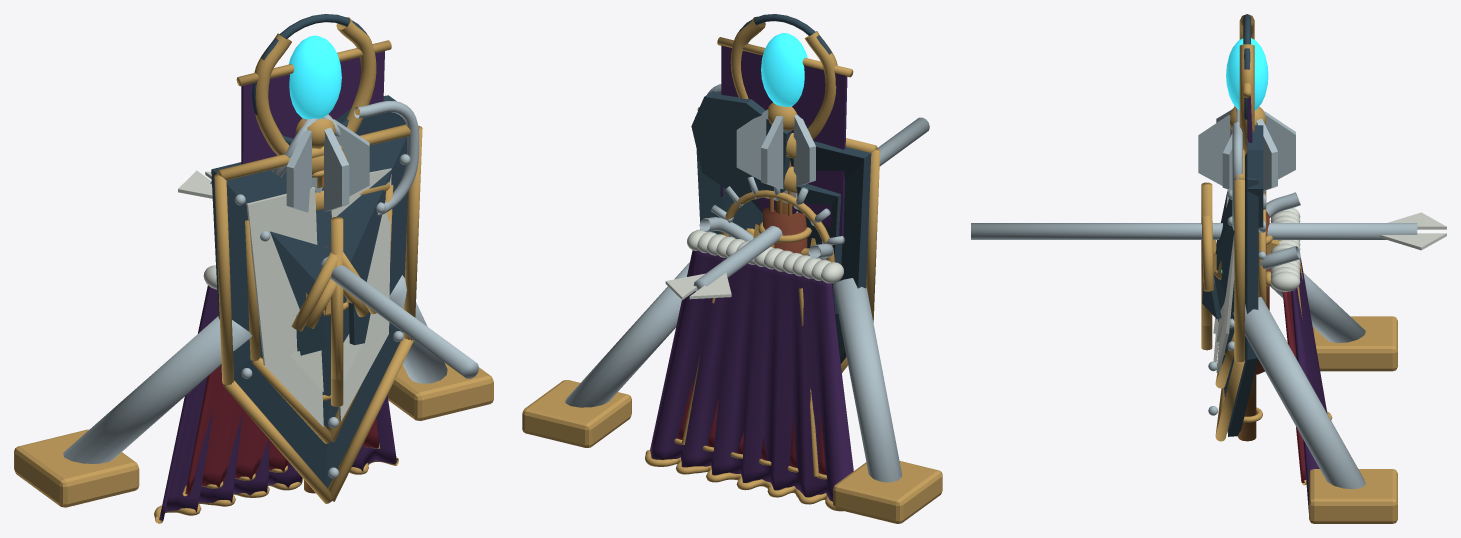
File: company-kit.glb
3 views of the same model, side by side, from view 1: azimuth 30°, elevation 25°; view 2: azimuth 150°, elevation 25°; view 3: azimuth 270°, elevation 25° (orthographic). The views are drawn at different scales.
Visible parts, largest first — view 1: BulwarkShield_Forged blue steel, BulwarkShield_Engraved electrum, WorldpiercerModule_Tempered edge, BulwarkShield_Ivory enamel, WorldpiercerModule_Engraved electrum, RoyalMantle_Black violet cloth, RaiderMantle_Burgundy cloth, BulwarkMace_Tempered edge, WardenShield_Engraved electrum, BlackStandard_Black violet cloth, HexStaff_Engraved electrum, HexStaff_Storm glass (+9 smaller); view 2: RoyalMantle_Black violet cloth, WorldpiercerModule_Tempered edge, WorldpiercerModule_Engraved electrum, BlackStandard_Black violet cloth, BulwarkShield_Forged blue steel, RaiderAxe_Forged blue steel, BulwarkMace_Tempered edge, RoyalMantle_Ivory enamel, HexStaff_Storm glass, RoyalMantle_Engraved electrum, HexStaff_Engraved electrum, WardenShield_Forged blue steel (+11 smaller); view 3: WorldpiercerModule_Tempered edge, WorldpiercerModule_Engraved electrum, BulwarkShield_Engraved electrum, BulwarkShield_Forged blue steel, BulwarkMace_Tempered edge, RoyalMantle_Black violet cloth, HexStaff_Storm glass, HexStaff_Engraved electrum, RoyalMantle_Ivory enamel, RaiderAxe_Forged blue steel, WorldpiercerModule_Ivory enamel, RaiderCrest_Tempered edge (+6 smaller).
Boxes of the visible parts, left/top/right/bottom form: BulwarkShield_Forged blue steel: left=211, top=136, right=407, bottom=488; BulwarkShield_Engraved electrum: left=214, top=124, right=422, bottom=503; WorldpiercerModule_Tempered edge: left=63, top=181, right=478, bottom=463; BulwarkShield_Ivory enamel: left=246, top=168, right=391, bottom=426; WorldpiercerModule_Engraved electrum: left=14, top=362, right=493, bottom=507; RoyalMantle_Black violet cloth: left=159, top=285, right=396, bottom=520; RaiderMantle_Burgundy cloth: left=185, top=365, right=379, bottom=494; BulwarkMace_Tempered edge: left=286, top=119, right=369, bottom=212; WardenShield_Engraved electrum: left=245, top=182, right=393, bottom=443; BlackStandard_Black violet cloth: left=241, top=51, right=384, bottom=164; HexStaff_Engraved electrum: left=254, top=17, right=376, bottom=177; HexStaff_Storm glass: left=288, top=35, right=341, bottom=119; RoyalMantle_Black violet cloth: left=650, top=250, right=853, bottom=501; WorldpiercerModule_Tempered edge: left=565, top=117, right=929, bottom=482; WorldpiercerModule_Engraved electrum: left=522, top=380, right=942, bottom=523; BlackStandard_Black violet cloth: left=720, top=45, right=847, bottom=236; BulwarkShield_Forged blue steel: left=695, top=117, right=871, bottom=363; RaiderAxe_Forged blue steel: left=691, top=91, right=791, bottom=197; BulwarkMace_Tempered edge: left=736, top=109, right=815, bottom=189; RoyalMantle_Ivory enamel: left=687, top=229, right=843, bottom=283; HexStaff_Storm glass: left=761, top=33, right=807, bottom=106; RoyalMantle_Engraved electrum: left=645, top=288, right=843, bottom=511; HexStaff_Engraved electrum: left=730, top=16, right=837, bottom=157; WardenShield_Forged blue steel: left=722, top=184, right=842, bottom=316; WorldpiercerModule_Tempered edge: left=971, top=223, right=1417, bottom=489; WorldpiercerModule_Engraved electrum: left=1309, top=316, right=1397, bottom=523; BulwarkShield_Engraved electrum: left=1201, top=105, right=1244, bottom=441; BulwarkShield_Forged blue steel: left=1214, top=152, right=1258, bottom=436; BulwarkMace_Tempered edge: left=1198, top=110, right=1295, bottom=191; RoyalMantle_Black violet cloth: left=1291, top=258, right=1327, bottom=512; HexStaff_Storm glass: left=1226, top=38, right=1268, bottom=110; HexStaff_Engraved electrum: left=1239, top=14, right=1262, bottom=422; RoyalMantle_Ivory enamel: left=1270, top=208, right=1300, bottom=291; RaiderAxe_Forged blue steel: left=1247, top=125, right=1263, bottom=227; WorldpiercerModule_Ivory enamel: left=1379, top=212, right=1446, bottom=250; RaiderCrest_Tempered edge: left=1258, top=192, right=1300, bottom=269.
Bounding box in the file's own units: 2.08 × 2.32 × 2.24.
